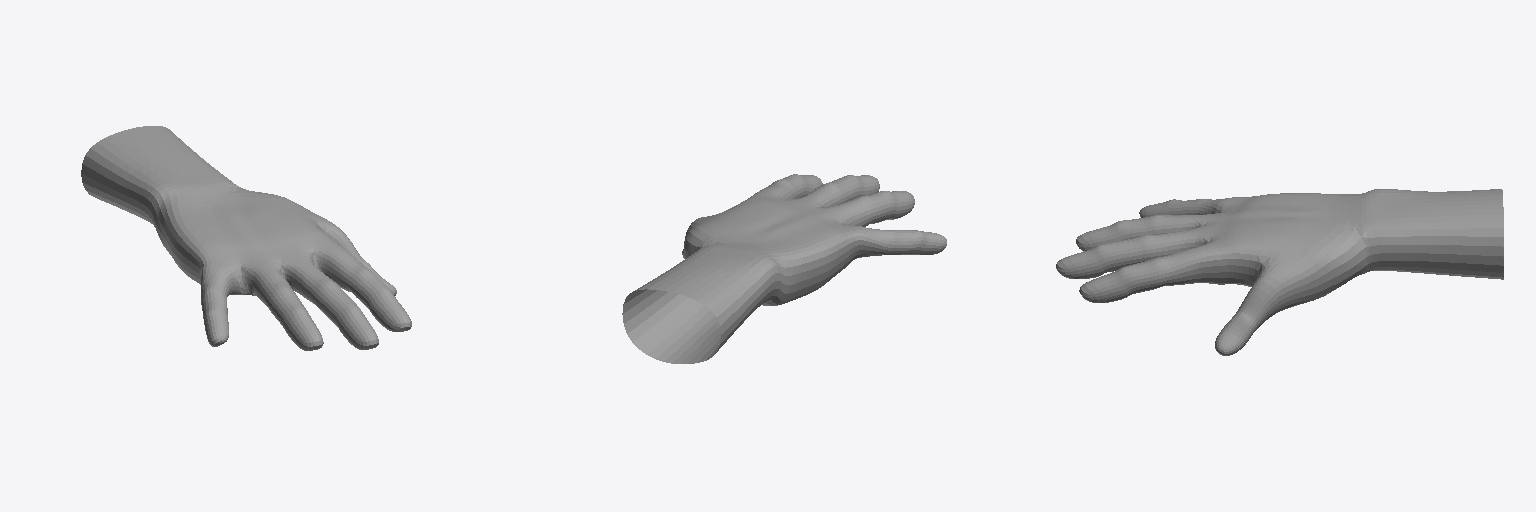
File: hand.obj
The picture shows the model from 3 angles: view 1: azimuth 30°, elevation 25°; view 2: azimuth 150°, elevation 25°; view 3: azimuth 270°, elevation 25°; orthographic projection.
Parts seen in each view (by area): view 1: sağel_Circle.001; view 2: sağel_Circle.001; view 3: sağel_Circle.001.
Boxes of the visible parts, x1,y1,x2,y2 form: sağel_Circle.001: [81, 126, 411, 350]; sağel_Circle.001: [622, 174, 946, 363]; sağel_Circle.001: [1056, 189, 1503, 355].
Size of the model in its own units: 2.3 by 0.9633 by 4.